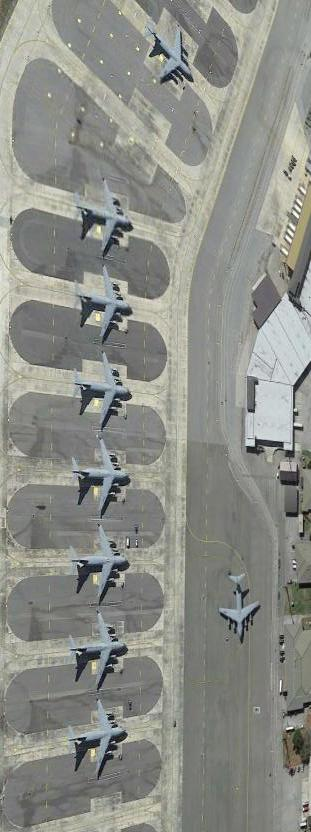C-17: (63, 608, 132, 689), (63, 698, 127, 777), (67, 268, 135, 341), (72, 350, 135, 424), (72, 182, 137, 250), (66, 528, 128, 599), (69, 437, 130, 508), (147, 21, 198, 88)
KC-135: (215, 565, 263, 646)
